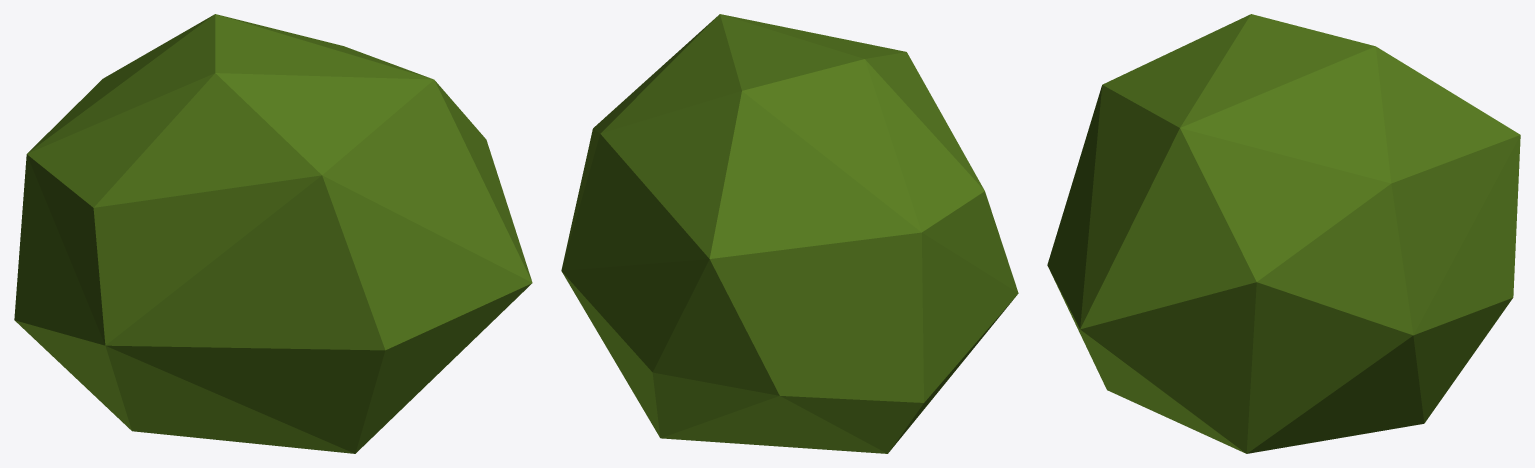
File: Bush_1.glb
The picture shows the model from 3 angles, left to right: view 1: azimuth 30°, elevation 25°; view 2: azimuth 150°, elevation 25°; view 3: azimuth 270°, elevation 25°; orthographic projection.
Parts seen in each view (by area): view 1: Bush_01; view 2: Bush_01; view 3: Bush_01.
Boxes of the visible parts, left/top/right/bottom form: Bush_01: left=14, top=14, right=532, bottom=453; Bush_01: left=561, top=14, right=1018, bottom=453; Bush_01: left=1047, top=14, right=1520, bottom=453.
Bounding box in the file's own units: 0.4164 × 0.3899 × 0.4208.
